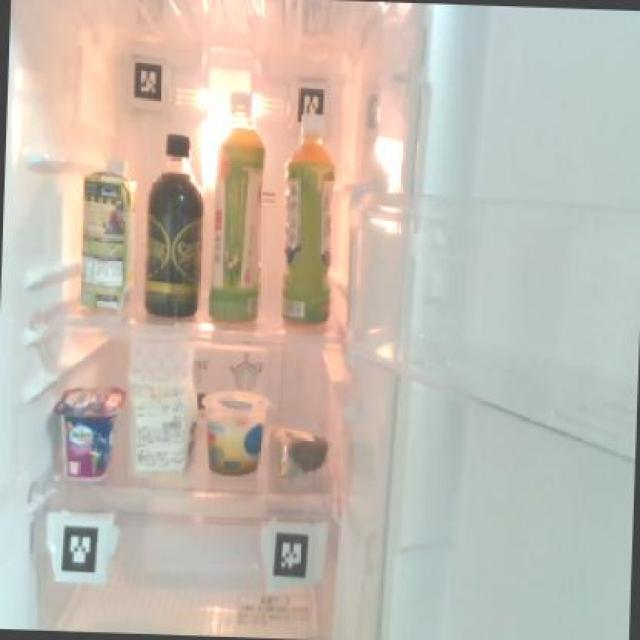coffee: (141, 132, 207, 320)
pudding: (202, 391, 268, 475)
rice_ball: (267, 426, 328, 485)
sandwich: (125, 329, 200, 473)
smoothie: (74, 152, 140, 311)
tea_a: (274, 122, 338, 332)
tea_i: (205, 87, 269, 327)
yogurt: (51, 383, 126, 482)
